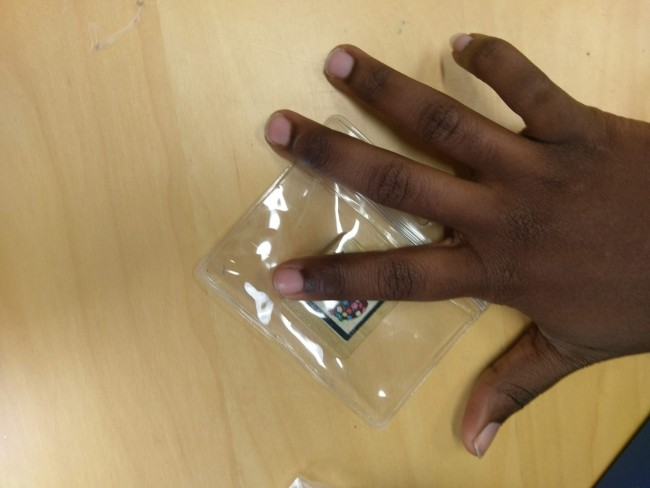cookie: (306, 281, 397, 345)
